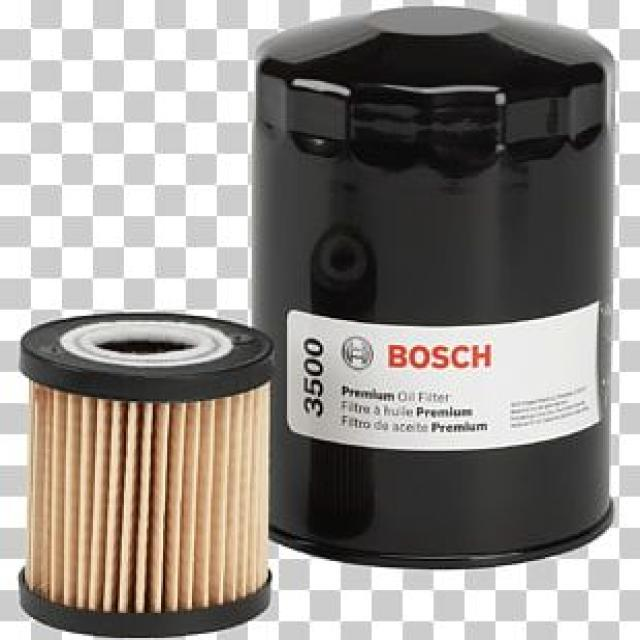oil_filter: (254, 2, 617, 570), (12, 303, 277, 635)
